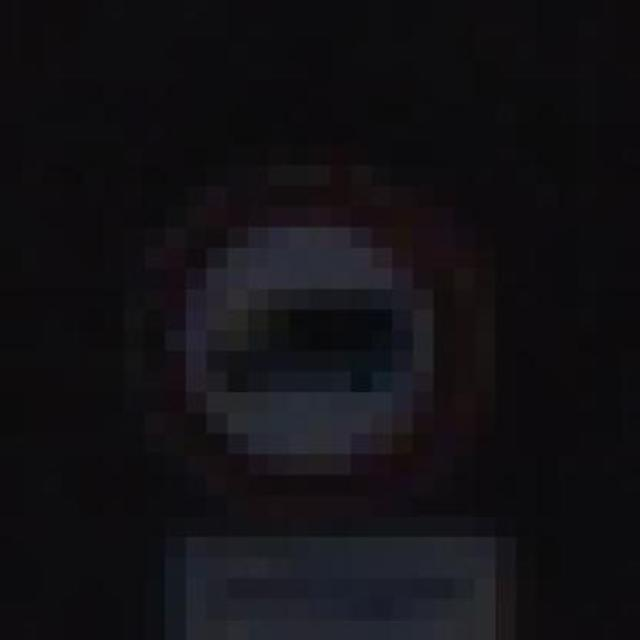Truck traffic is prohibited: (82, 145, 516, 537)
